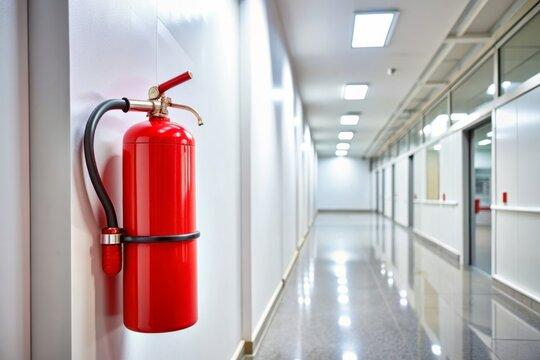wall-mounted: (72, 60, 211, 343)
